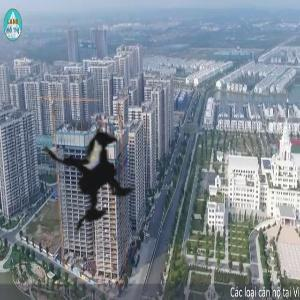drone: (3, 78, 206, 281)
